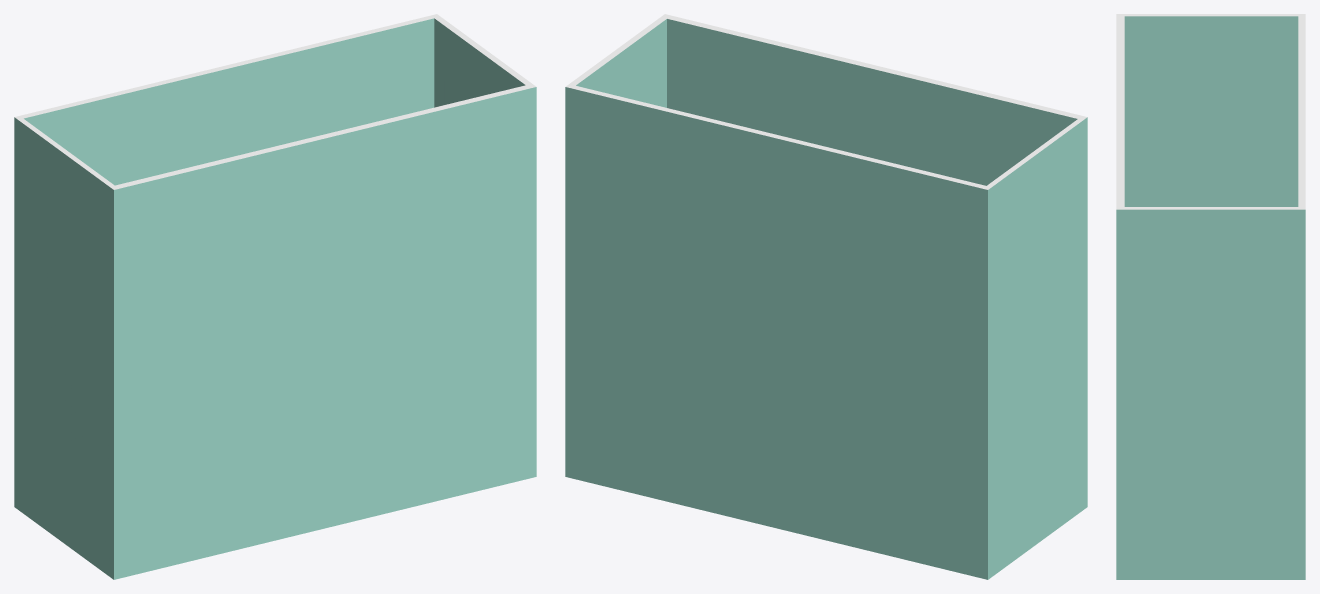
File: container.obj
The picture shows the model from 3 angles, left to right: view 1: azimuth 30°, elevation 25°; view 2: azimuth 150°, elevation 25°; view 3: azimuth 270°, elevation 25°; orthographic projection. The views are drawn at different scales.
Parts seen in each view (by area): view 1: Mesh1 Group1 Model; view 2: Mesh1 Group1 Model; view 3: Mesh1 Group1 Model.
Part boxes in pixels (box(x1,y1,x2,y2)): Mesh1 Group1 Model: box(14, 14, 536, 579); Mesh1 Group1 Model: box(565, 14, 1087, 579); Mesh1 Group1 Model: box(1116, 14, 1305, 579).
Bounding box in the file's own units: 146 × 128 × 59.4.
